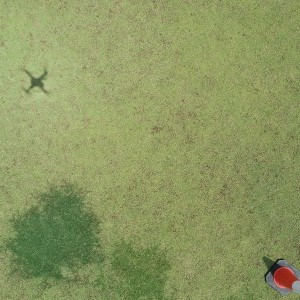traffic cone: (264, 258, 300, 297)
